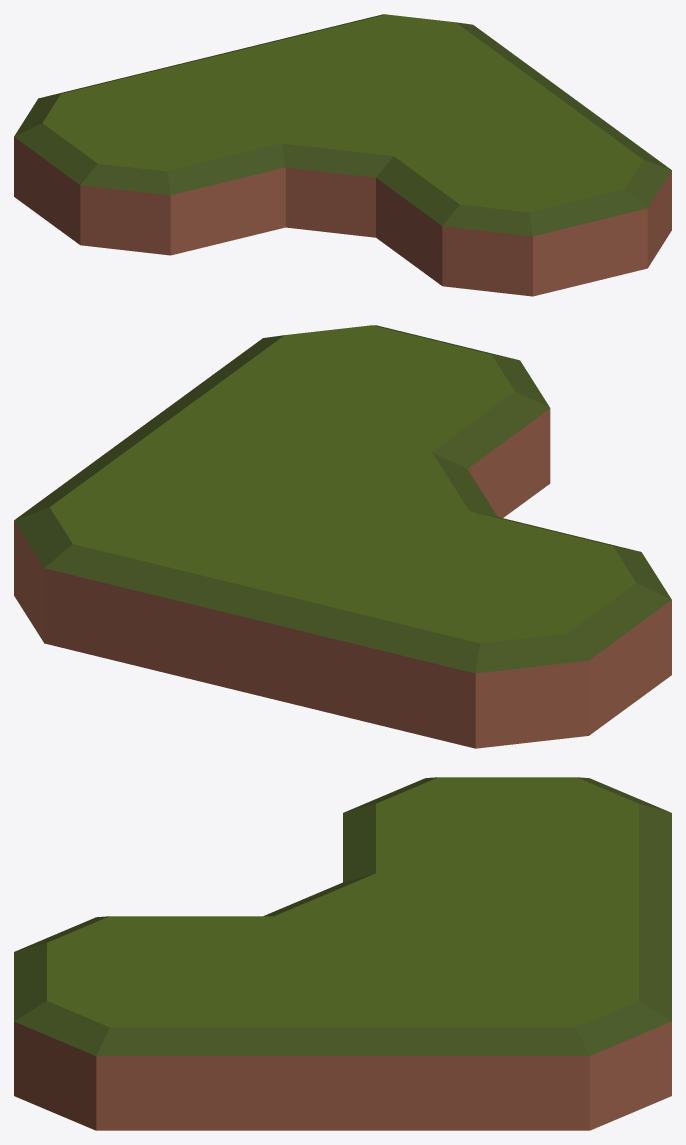
The model's file is TB_Env_Mound_C.FBX.
3 renders of one model, top to bottom at view 1: azimuth 30°, elevation 25°; view 2: azimuth 150°, elevation 25°; view 3: azimuth 270°, elevation 25°, orthographic. The views are drawn at different scales.
Visible parts, largest first — view 1: TB_Env_Mound_C; view 2: TB_Env_Mound_C; view 3: TB_Env_Mound_C.
Part boxes in pixels (bbox=[...]): TB_Env_Mound_C: bbox=[14, 14, 671, 296]; TB_Env_Mound_C: bbox=[14, 325, 671, 748]; TB_Env_Mound_C: bbox=[14, 777, 671, 1130].
Bounding box in the file's own units: 20 × 3 × 20.
